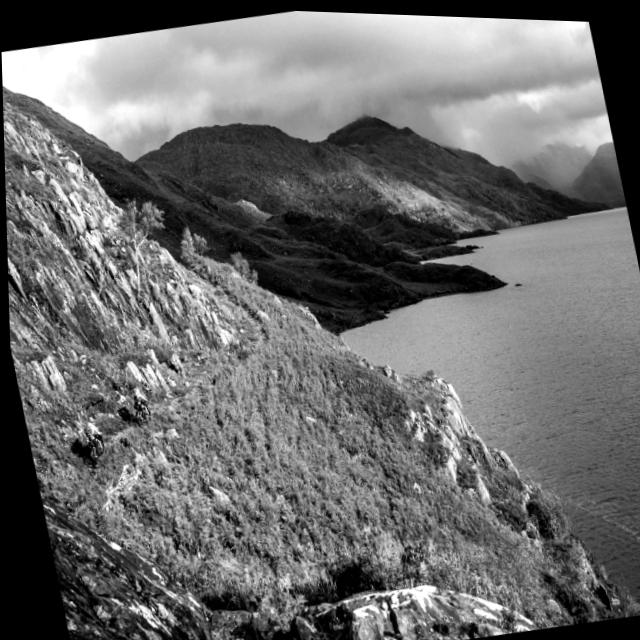cleat: (1, 8, 640, 640)
